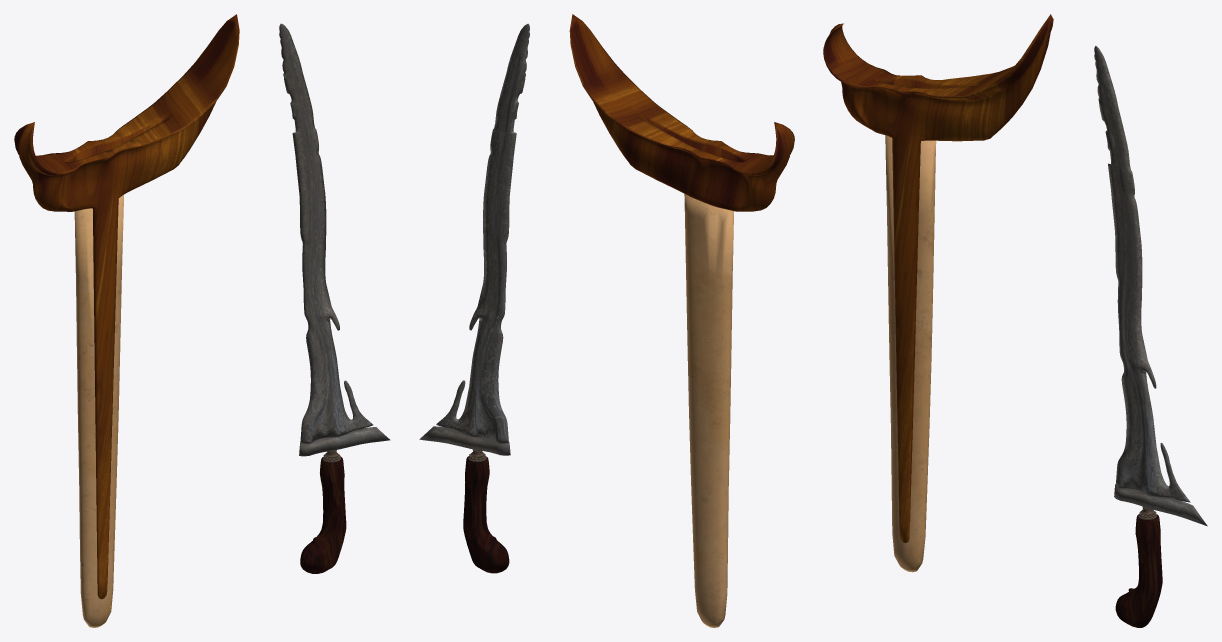
Rendered from mkn06_low.glb.
3 renders of one model, left to right at view 1: azimuth 30°, elevation 25°; view 2: azimuth 150°, elevation 25°; view 3: azimuth 330°, elevation 25°, orthographic. The views are drawn at different scales.
Visible parts, largest first — view 1: mkn06_Jangkung; view 2: mkn06_Jangkung; view 3: mkn06_Jangkung.
Part boxes in pixels (bbox=[...]): mkn06_Jangkung: bbox=[14, 14, 390, 627]; mkn06_Jangkung: bbox=[419, 14, 794, 627]; mkn06_Jangkung: bbox=[823, 14, 1207, 627].
Size of the model in its own units: 1.43 by 2.13 by 0.2265.
Materials: 1 (1 with a texture image).
